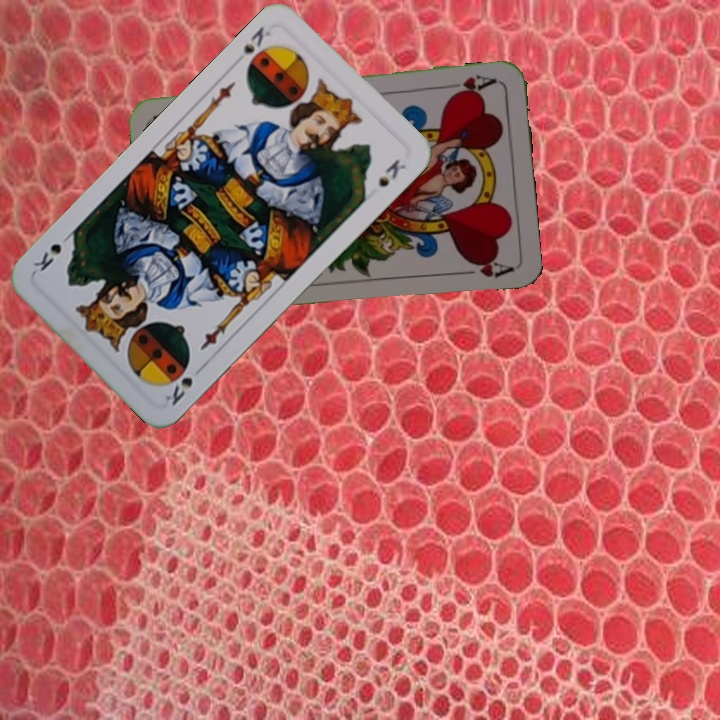HA: (441, 71, 499, 99)
SK: (161, 359, 196, 409), (239, 22, 274, 56)
